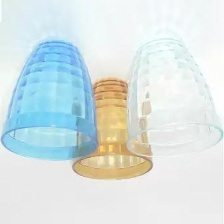glass: (0, 35, 102, 163), (122, 36, 224, 159), (68, 73, 155, 185)
